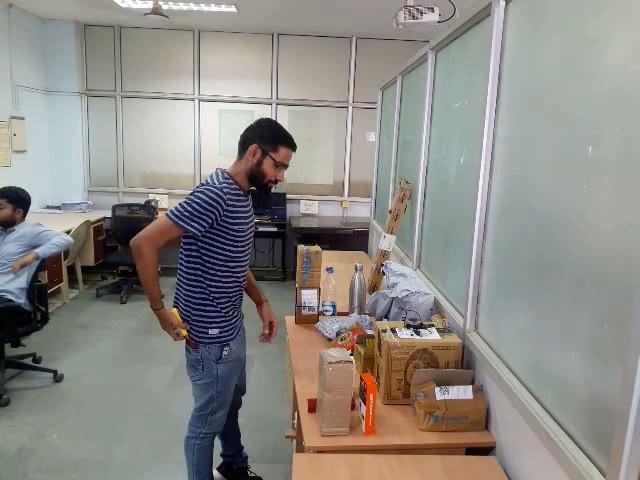Normal: (0, 0, 549, 480)
shoplifting: (99, 286, 251, 413)
